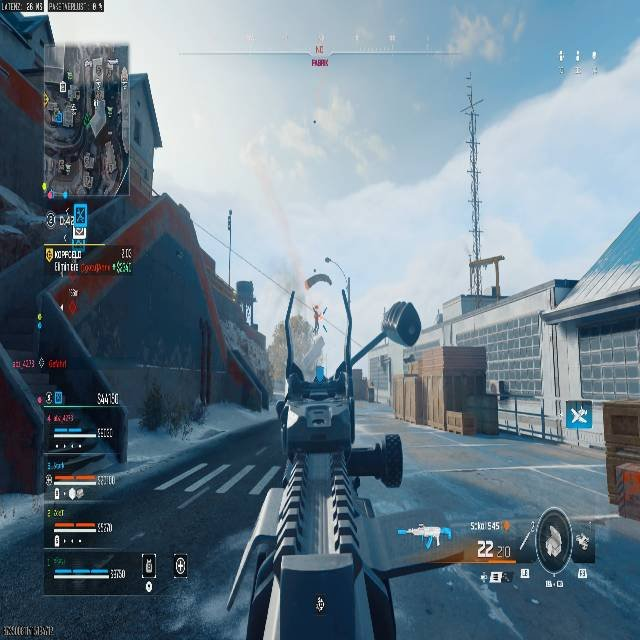player: (311, 304, 326, 334)
